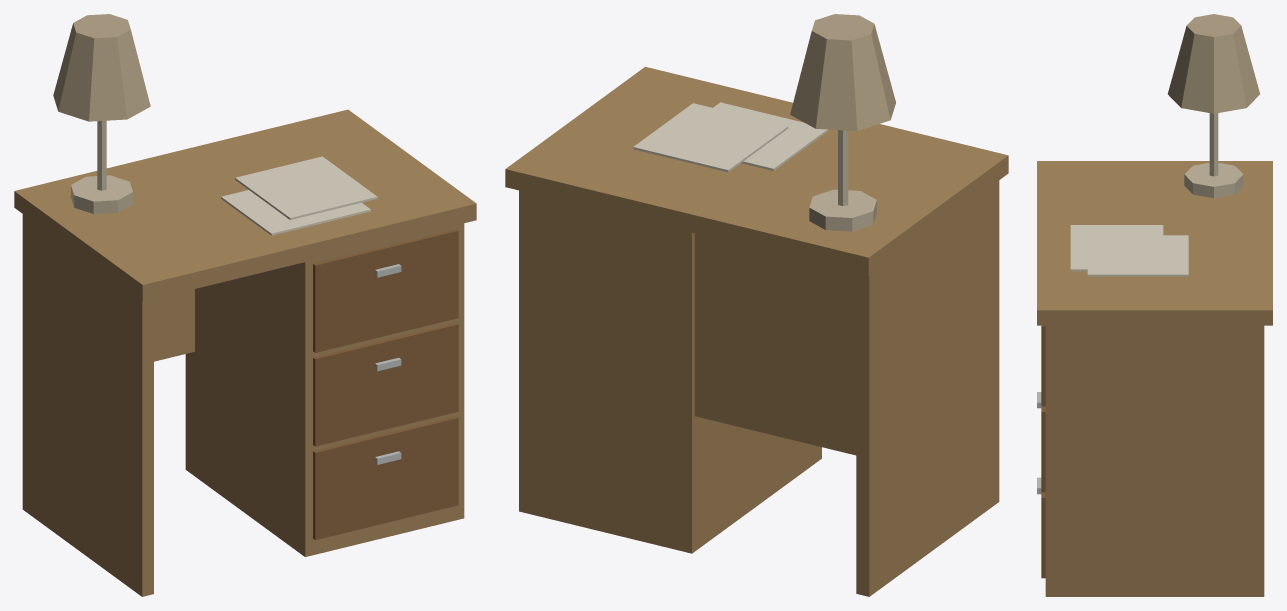
Rendered from desk.glb.
3 renders of one model, left to right at view 1: azimuth 30°, elevation 25°; view 2: azimuth 150°, elevation 25°; view 3: azimuth 270°, elevation 25°, orthographic. The views are drawn at different scales.
Parts seen in each view (by area): view 1: desk; view 2: desk; view 3: desk.
Boxes of the visible parts, <box> form: desk: <box>14,14,476,596</box>; desk: <box>505,14,1008,596</box>; desk: <box>1037,14,1272,596</box>.
Bounding box in the file's own units: 0.84 × 1.18 × 0.56.
